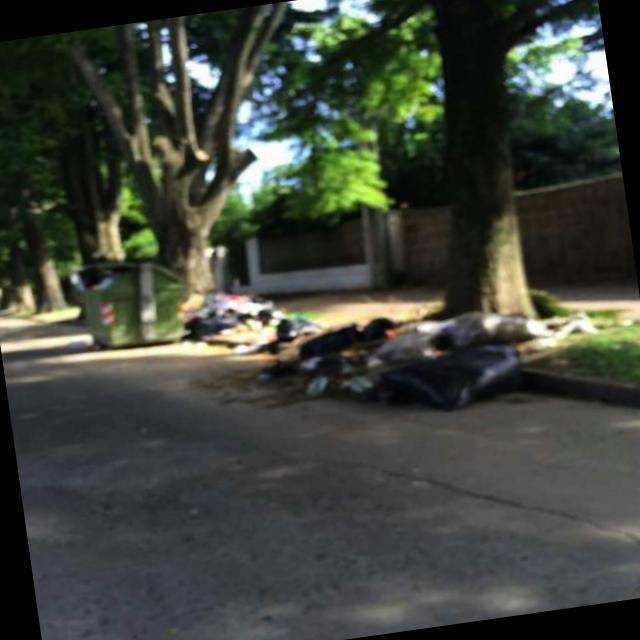garbage: (266, 291, 542, 437), (160, 258, 290, 368), (524, 296, 608, 353), (56, 329, 106, 365)
